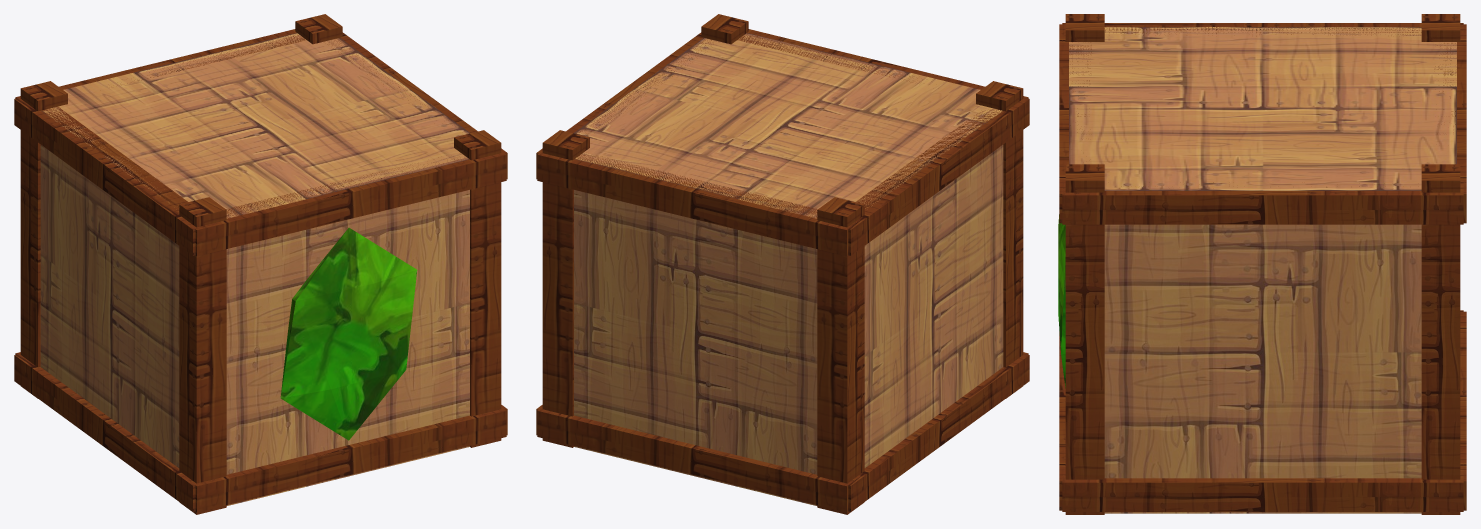
File: crate.glb
The picture shows the model from 3 angles, left to right: view 1: azimuth 30°, elevation 25°; view 2: azimuth 150°, elevation 25°; view 3: azimuth 270°, elevation 25°; orthographic projection. The views are drawn at different scales.
Parts seen in each view (by area): view 1: crate; view 2: crate; view 3: crate.
Boxes of the visible parts, <box> form: crate: <box>14,14,507,514</box>; crate: <box>536,14,1029,514</box>; crate: <box>1058,14,1466,514</box>.
Bounding box in the file's own units: 1.26 × 1.14 × 1.26.
3 materials, 3 textured.
